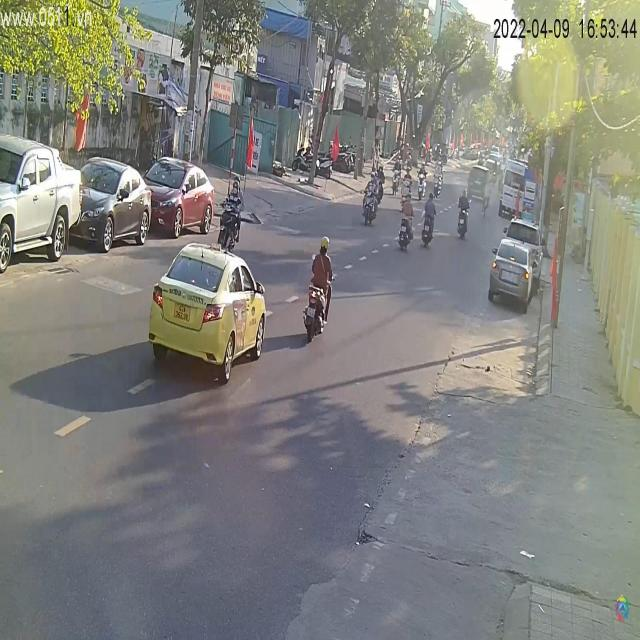car: (149, 240, 269, 382), (1, 134, 83, 278), (74, 158, 156, 253), (140, 156, 218, 240), (490, 231, 545, 312), (499, 161, 538, 223)
motorcycle: (303, 268, 334, 341), (362, 182, 380, 226), (397, 220, 413, 252), (456, 212, 467, 241)
